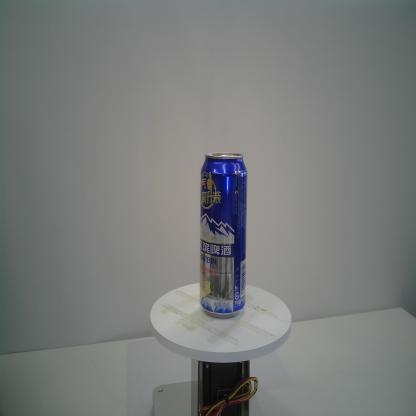Alcohol: (198, 152, 249, 321)
